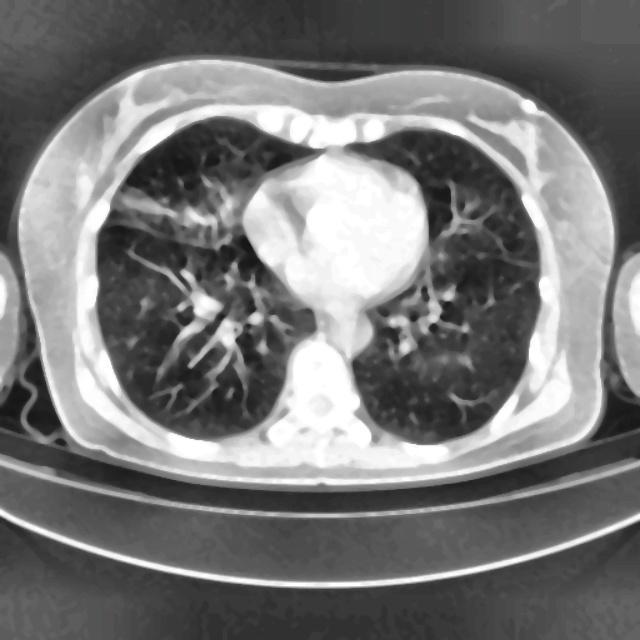covid: (15, 56, 618, 490)
